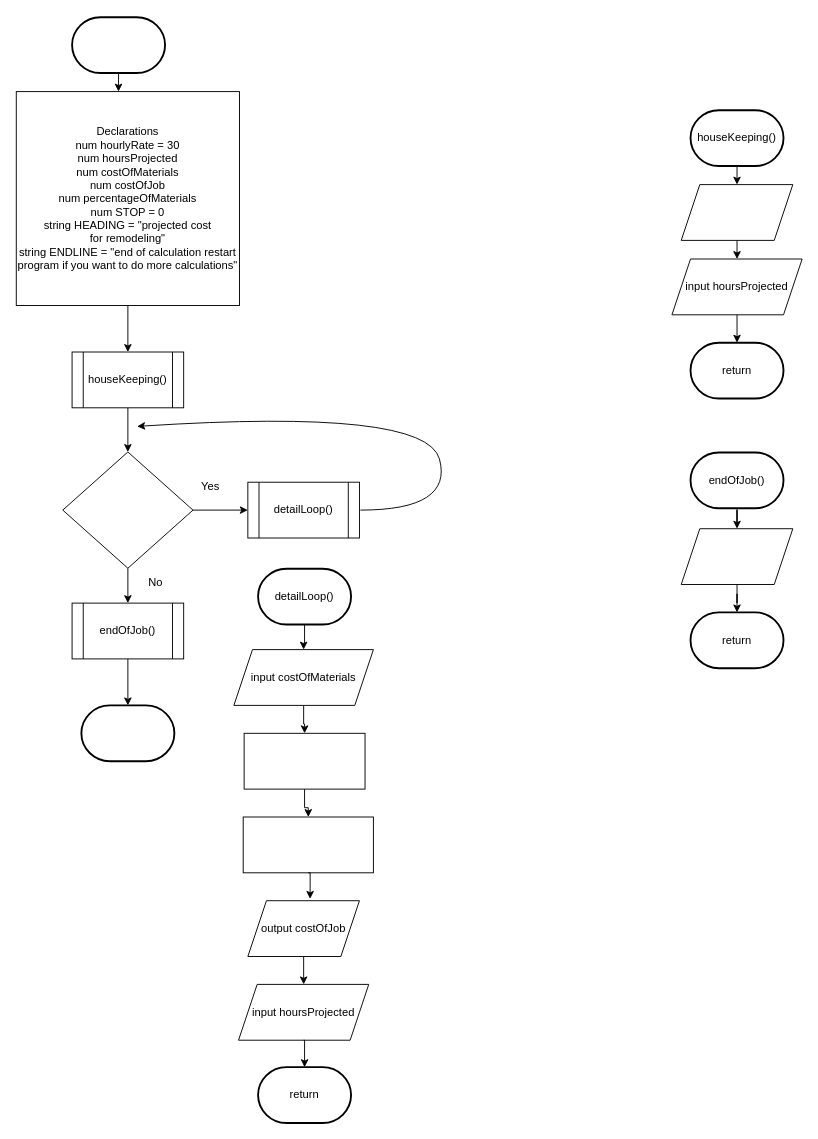
This 818x1139 diagram has some shape labels left out. Here are the shapes that lost their labels. From the top down, the centre of each, then its label:
At point (118, 44): "start".
At point (736, 212): "output HEADING".
At point (127, 509): "number not equal to 0".
At point (736, 556): "output ENDLINE".
At point (127, 733): "stop".
At point (304, 760): "percentageOfMaterials = costOfMaterials * 1.2".
At point (307, 844): "costOfJob = hoursProjected * hourlyRate + percentageOfMaterials".
